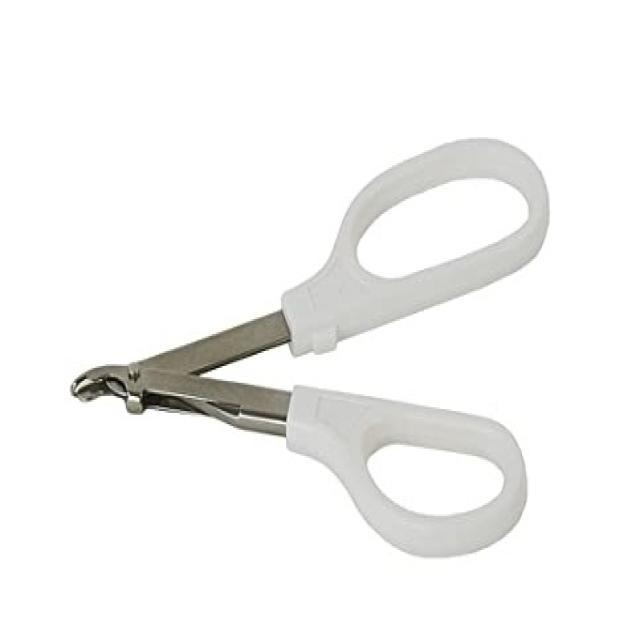Stapler Remover: (68, 123, 556, 572)
